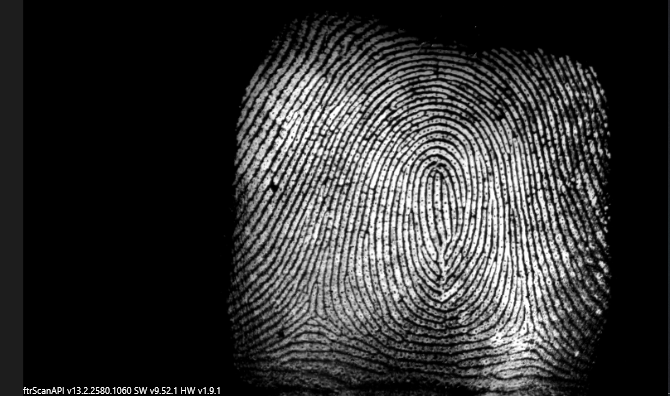nucelo: (418, 166, 458, 231)
verticilo: (290, 289, 336, 337), (510, 310, 543, 341)
